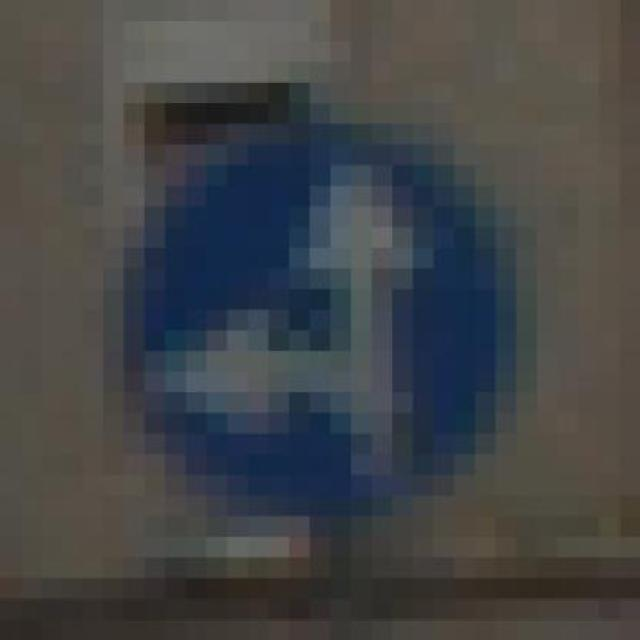Go straight or turn left: (82, 61, 558, 537)
